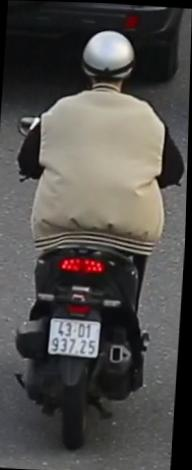LP: (47, 316, 105, 362)
helmet: (78, 25, 138, 98)
